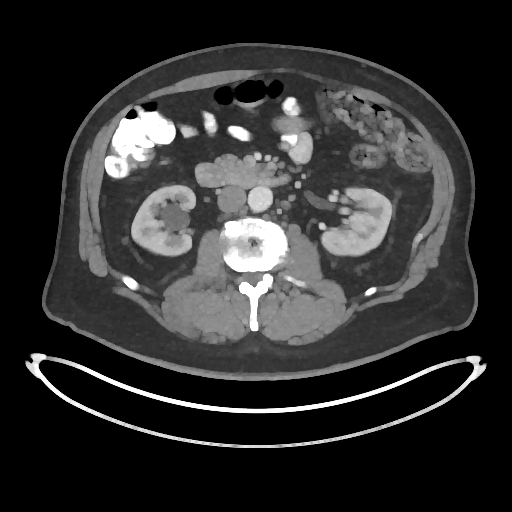Lesion: (161, 203, 189, 232)
